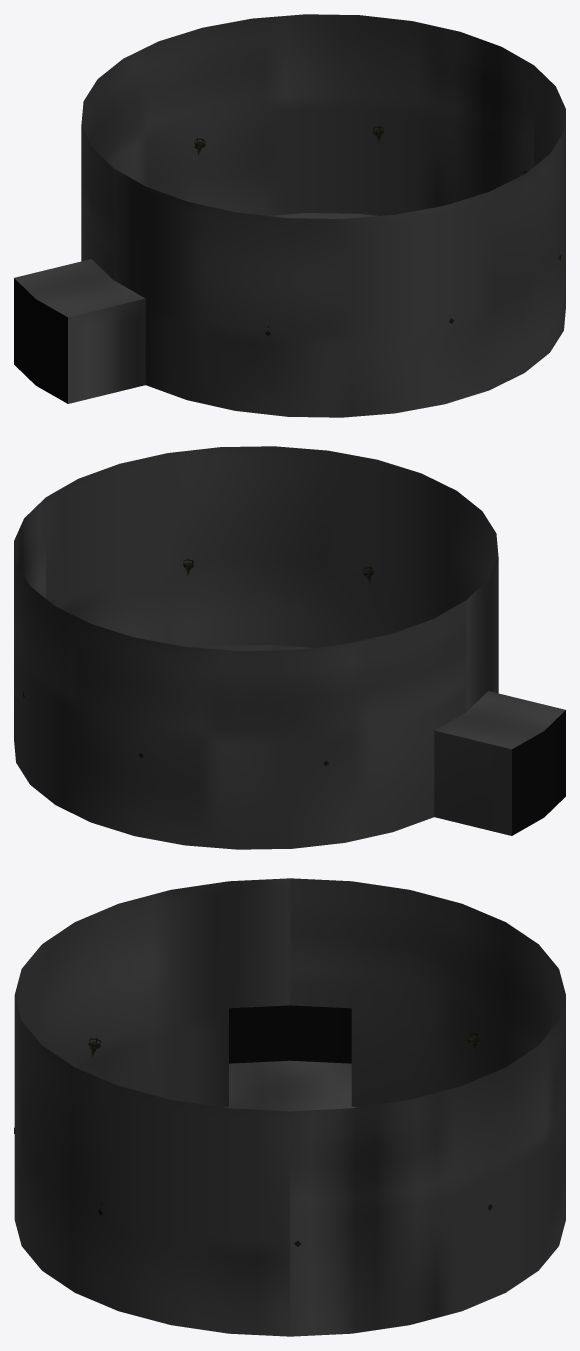
The model's file is arena.fbx.
The picture shows the model from 3 angles, top to bottom: view 1: azimuth 30°, elevation 25°; view 2: azimuth 150°, elevation 25°; view 3: azimuth 270°, elevation 25°; orthographic projection. The views are drawn at different scales.
Parts seen in each view (by area): view 1: Arena; view 2: Arena; view 3: Arena.
Boxes of the visible parts, x1,y1,x2,y2 form: Arena: (14,14,565,417); Arena: (14,446,565,849); Arena: (14,878,565,1336).
Bounding box in the file's own units: 1374 × 523 × 1161.
